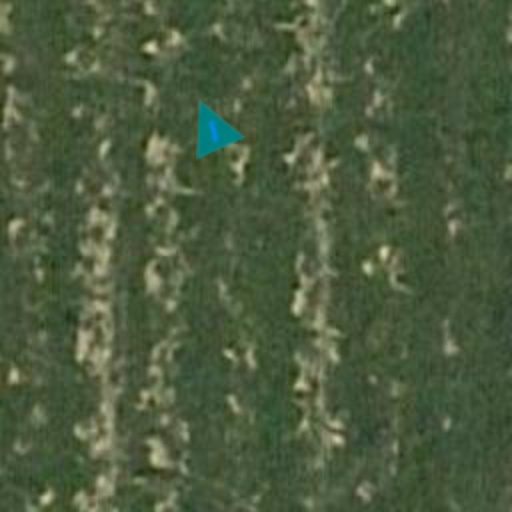triangle: (174, 88, 246, 160)
